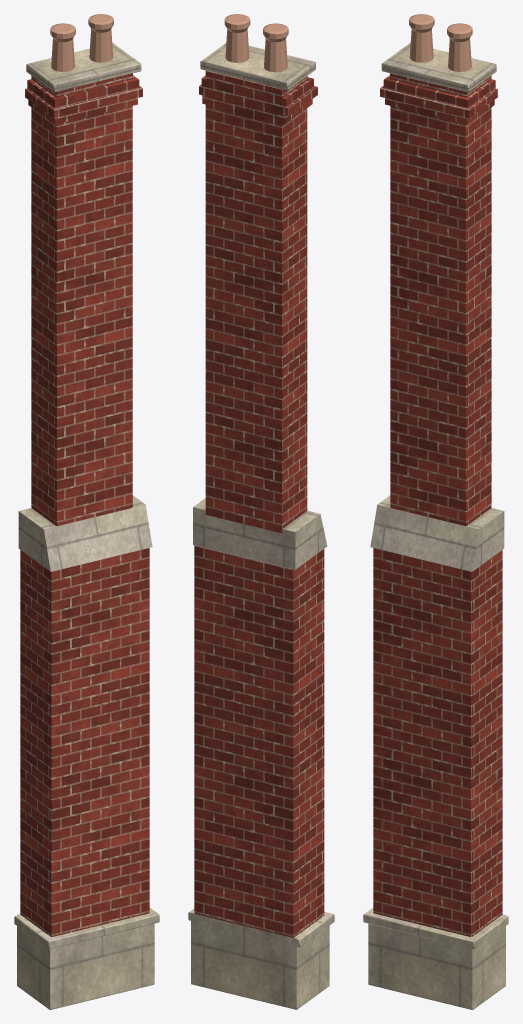
Rendered from chimney.glb.
The picture shows the model from 3 angles, left to right: view 1: azimuth 30°, elevation 25°; view 2: azimuth 150°, elevation 25°; view 3: azimuth 330°, elevation 25°; orthographic projection.
Parts seen in each view (by area): view 1: chimney_brick, chimney_stone_t, chimney_clay; view 2: chimney_brick, chimney_stone_t, chimney_clay; view 3: chimney_brick, chimney_stone_t, chimney_clay.
Part boxes in pixels (x1=…): chimney_brick: x1=20, y1=73, x2=149, y2=936; chimney_stone_t: x1=14, y1=43, x2=159, y2=1009; chimney_clay: x1=50, y1=14, x2=113, y2=71; chimney_brick: x1=194, y1=70, x2=324, y2=937; chimney_stone_t: x1=188, y1=43, x2=334, y2=1009; chimney_clay: x1=224, y1=14, x2=288, y2=72; chimney_brick: x1=373, y1=73, x2=502, y2=936; chimney_stone_t: x1=363, y1=43, x2=508, y2=1009; chimney_clay: x1=409, y1=14, x2=472, y2=71.
Bounding box in the file's own units: 1.4 × 11.52 × 0.76.
Materials: 3 (2 with a texture image).
